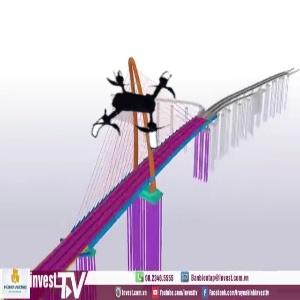drone: (86, 63, 187, 164)
